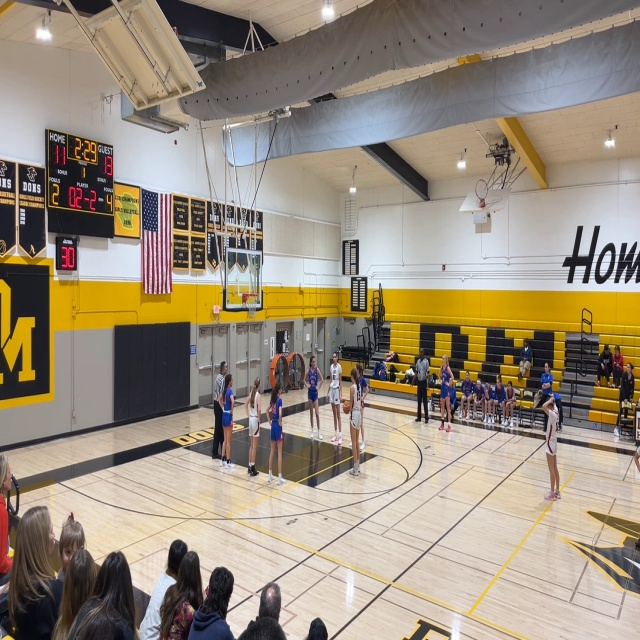Basketball: (342, 400, 352, 414)
